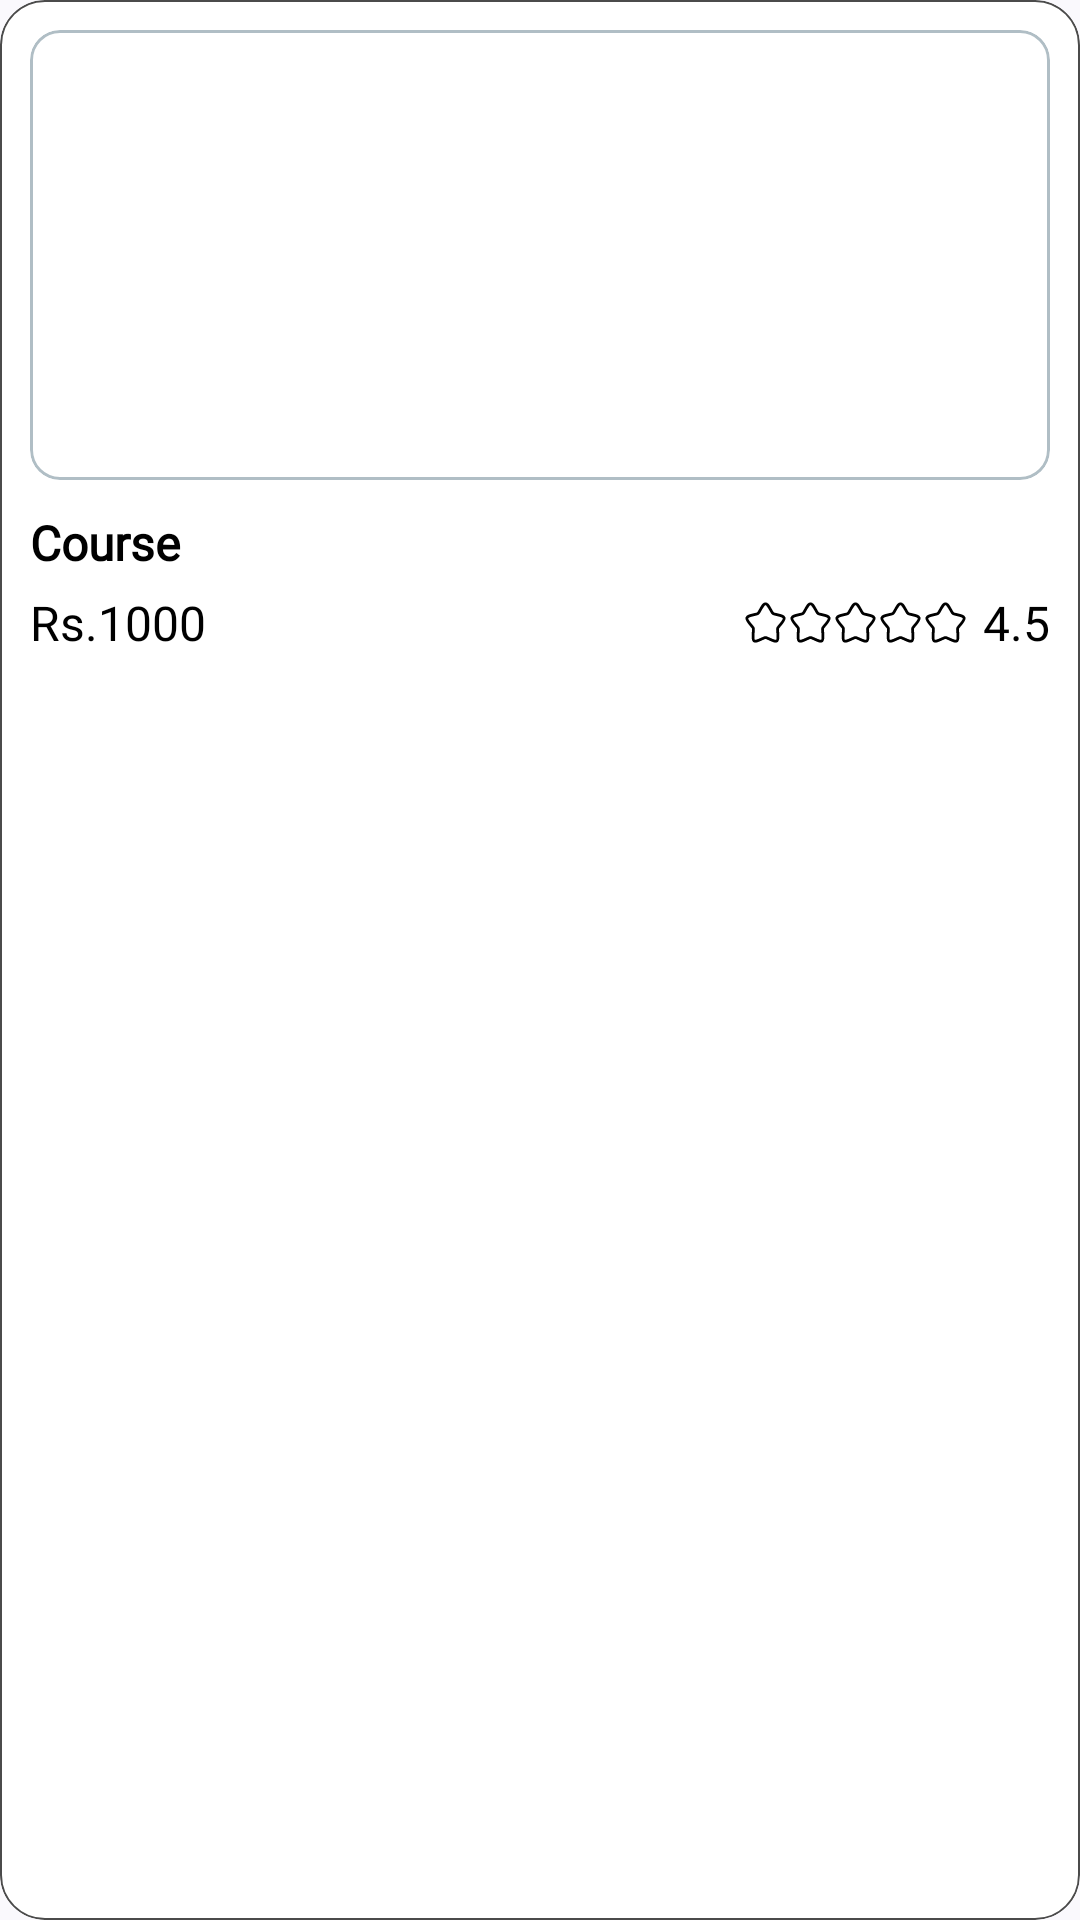

Locate icon controls on the screen. Image size 1080w x 1920h, boxes as (x1, y1, x2, y2).
star: (745, 602, 786, 643), (790, 602, 831, 643), (835, 602, 876, 643), (880, 602, 921, 643), (925, 602, 966, 643)
